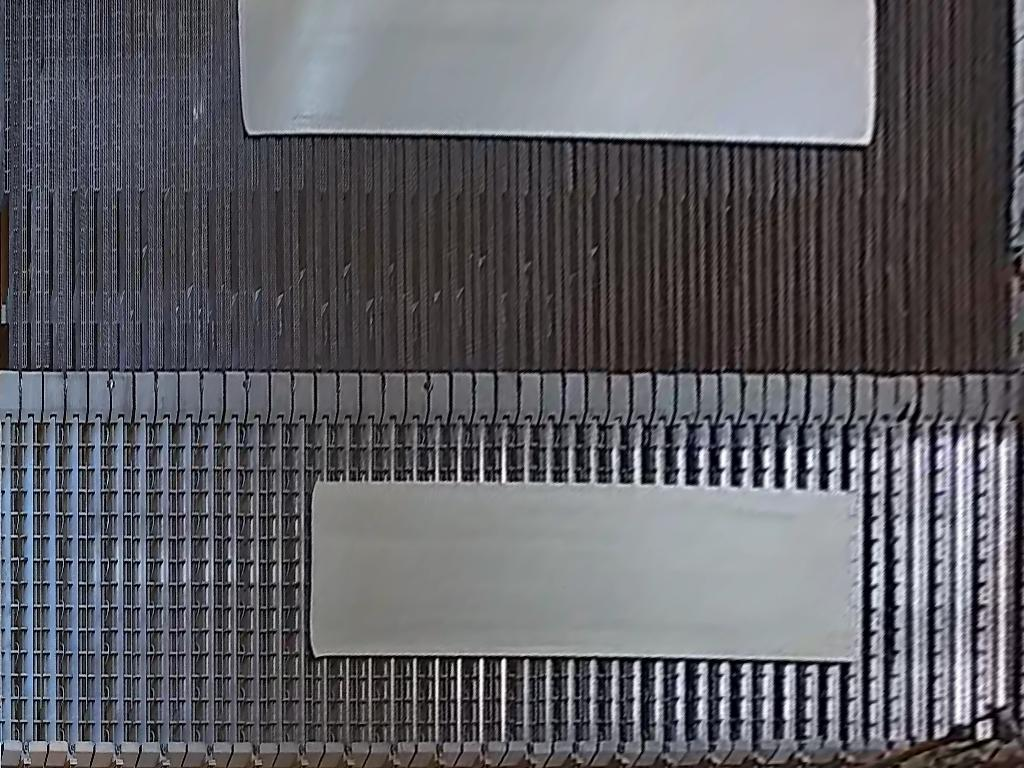steel: (309, 478, 858, 661), (238, 1, 875, 143)
